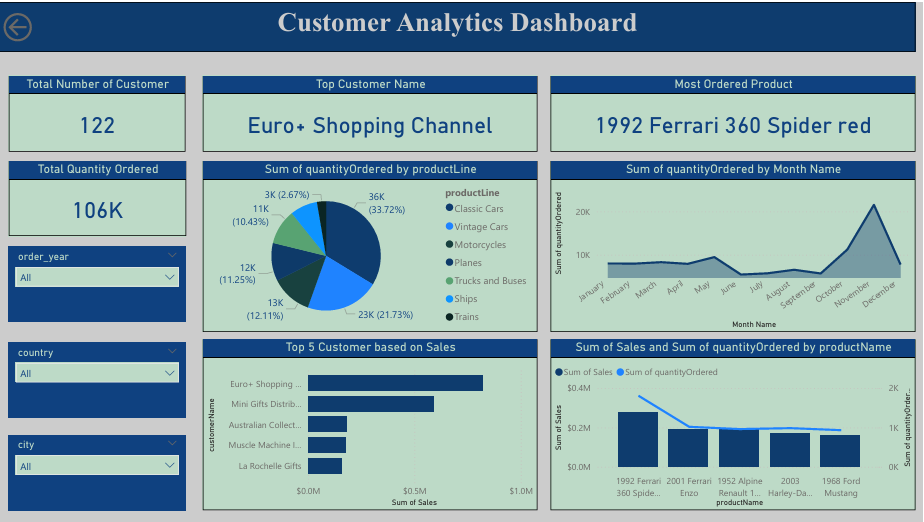

The page's visual inventory and layout, read from the dashboard file:
{"tool":"powerbi","page":{"name":"Customer Analytics Dashboard","canvas":[1280,720],"ordinal":4},"visuals":[{"type":"textbox","box":[0,0,1269.9,69.4],"z":0},{"type":"card","title":"Total Number of Customer","fields":{"Values":["CountNonNull(customers.customerNumber)"]},"box":[12.8,102,245.2,104.9],"z":1},{"type":"card","title":"Total Quantity Ordered","fields":{"Values":["Sum(order details.quantityOrdered)"]},"box":[13.4,220.1,245.2,104.1],"z":2},{"type":"barChart","title":"Top 5 Customer based on Sales","fields":{"Category":["customers.customerName"],"Y":["Sum(order details.Sales)"]},"box":[282.2,467,463.6,236.9],"z":3},{"type":"card","title":"Top Customer Name","fields":{"Values":["customers.top_cust_name"]},"box":[282.2,102.5,463.6,104.1],"z":4},{"type":"card","title":"Most Ordered Product","fields":{"Values":["customers.most_ordered_product"]},"box":[764.3,102.5,505.6,104.1],"z":5},{"type":"slicer","fields":{"Values":["customers.city"]},"box":[13.4,599.7,245.2,104.1],"z":6},{"type":"slicer","fields":{"Values":["customers.country"]},"box":[13.4,472,245.2,104.1],"z":7},{"type":"slicer","fields":{"Values":["orders.order_year"]},"box":[13.4,339.3,245.2,104.1],"z":8},{"type":"pieChart","fields":{"Category":["products.productLine"],"Y":["Sum(order details.quantityOrdered)"]},"box":[282.2,220.1,463.6,236.9],"z":9},{"type":"areaChart","fields":{"Category":["orders.Month Name"],"Y":["Sum(order details.quantityOrdered)"]},"box":[764.3,220.1,505.6,236.9],"z":10},{"type":"lineStackedColumnComboChart","fields":{"Category":["products.productName"],"Y":["Sum(order details.Sales)"],"Y2":["Sum(order details.quantityOrdered)"]},"box":[764,467,506,237],"z":11},{"type":"actionButton","box":[0,0,51,69.4],"z":12}]}

Visuals, with their boxes in screenshot pixels (x1, y1, x2, y2), scaled from the page's 1280x720 canvas onto the 924x522 screenshot:
textbox: 0/0/917/50
"Total Number of Customer" card: 9/74/186/150
"Total Quantity Ordered" card: 10/160/187/235
"Top 5 Customer based on Sales" barChart: 204/339/538/510
"Top Customer Name" card: 204/74/538/150
"Most Ordered Product" card: 552/74/917/150
slicer - customers.city: 10/435/187/510
slicer - customers.country: 10/342/187/418
slicer - orders.order_year: 10/246/187/321
pieChart - products.productLine x Sum(order details.quantityOrdered): 204/160/538/331
areaChart - orders.Month Name x Sum(order details.quantityOrdered): 552/160/917/331
lineStackedColumnComboChart - products.productName x Sum(order details.Sales): 552/339/917/510
actionButton: 0/0/37/50
